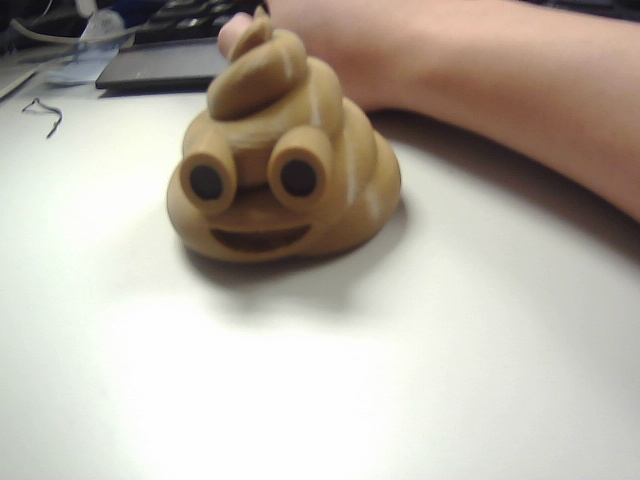shit: (159, 3, 402, 267)
